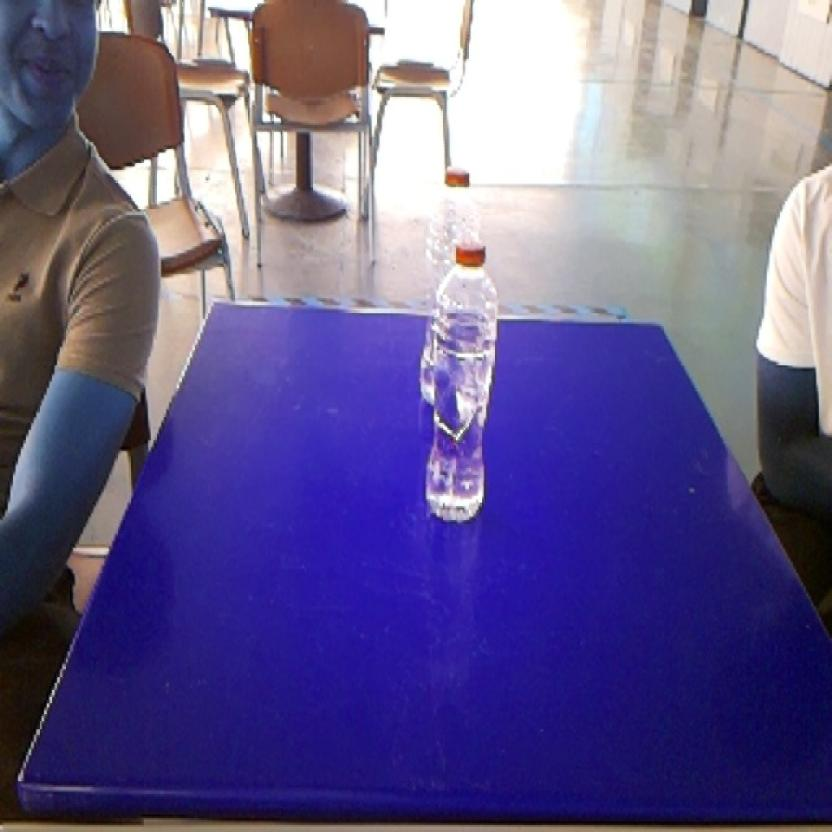no_label: (418, 235, 508, 532), (422, 152, 494, 242)
